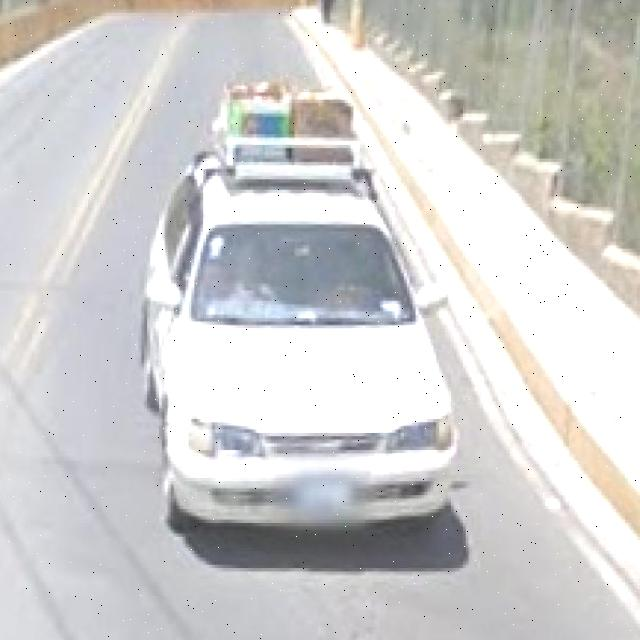car: (143, 116, 456, 564)
